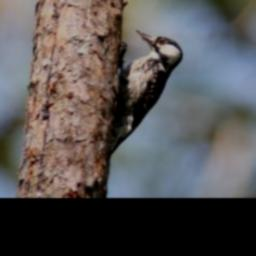Woodpecker: (110, 29, 183, 162)
